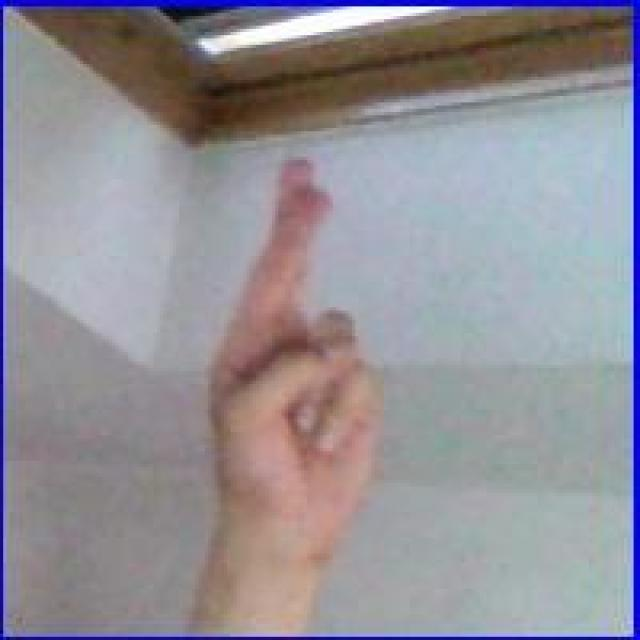R: (200, 149, 389, 549)
